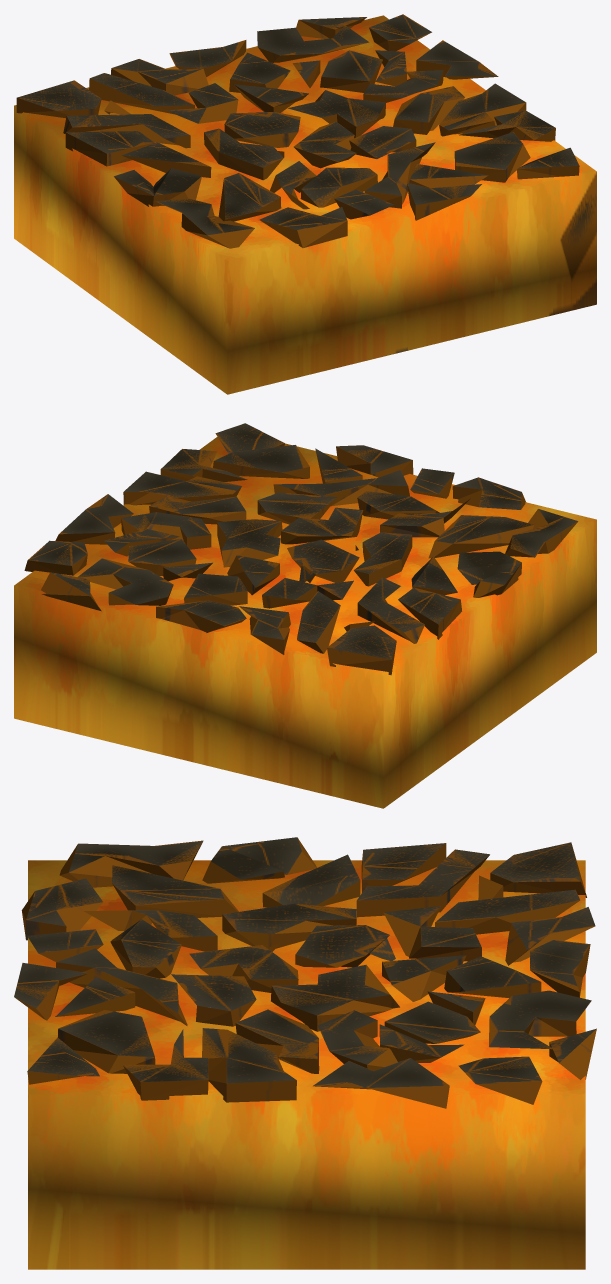
The model's file is smSquareLava1.fbx.
The picture shows the model from 3 angles, top to bottom: view 1: azimuth 30°, elevation 25°; view 2: azimuth 150°, elevation 25°; view 3: azimuth 270°, elevation 25°; orthographic projection. The views are drawn at different scales.
Visible parts, largest first — view 1: smSquareLava; view 2: smSquareLava; view 3: smSquareLava.
Part boxes in pixels (<box>): smSquareLava: <box>14,14,596,394</box>; smSquareLava: <box>14,423,596,808</box>; smSquareLava: <box>14,837,596,1269</box>.
Size of the model in its own units: 144 by 50.88 by 141.
